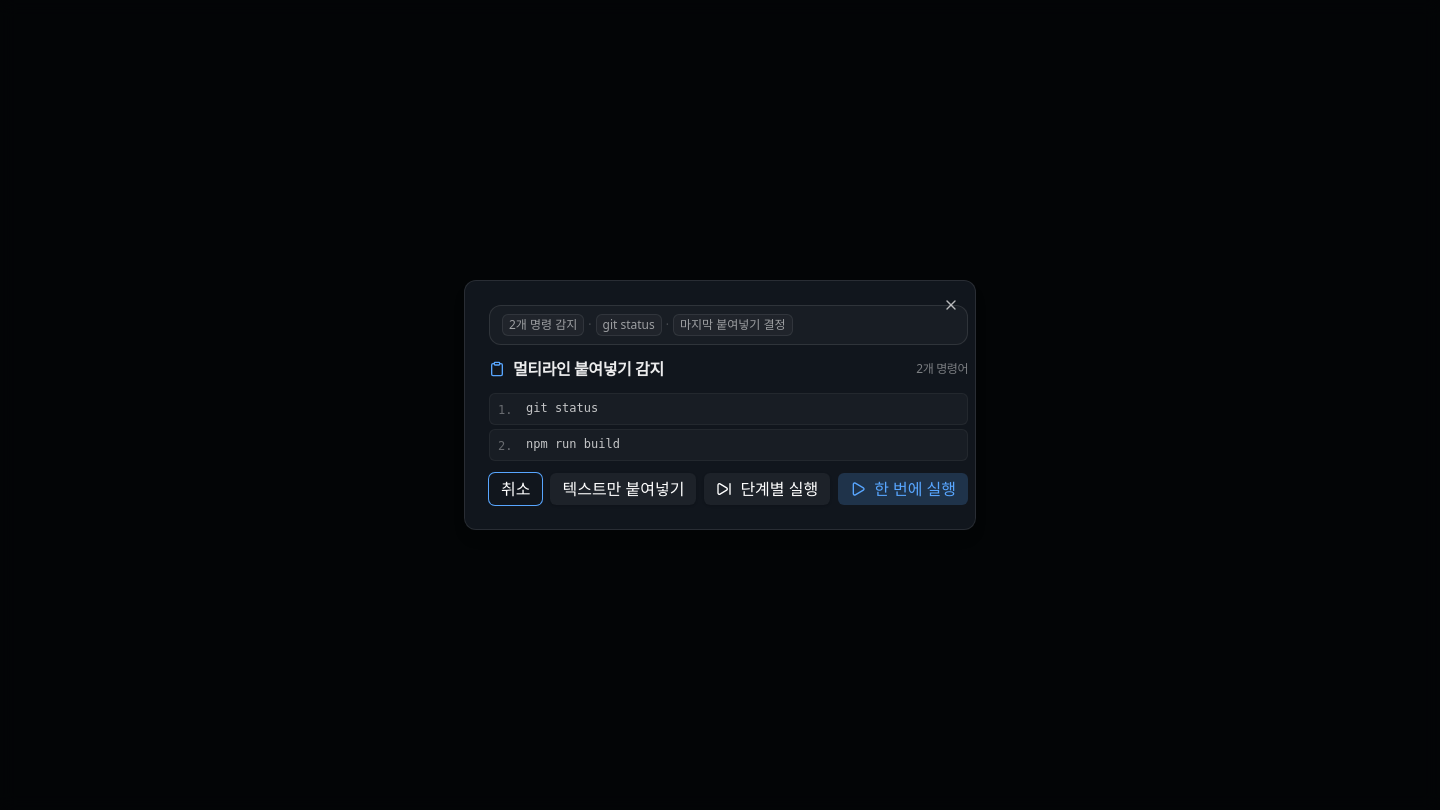
Test: SmartPasteModal › 단계별 실행 상태에서 현재 명령 흐름 안내를 보여준다
The image size is (1440, 810).
Click the button "단계별 실행".
click(767, 489)  # box [704,473,830,505]
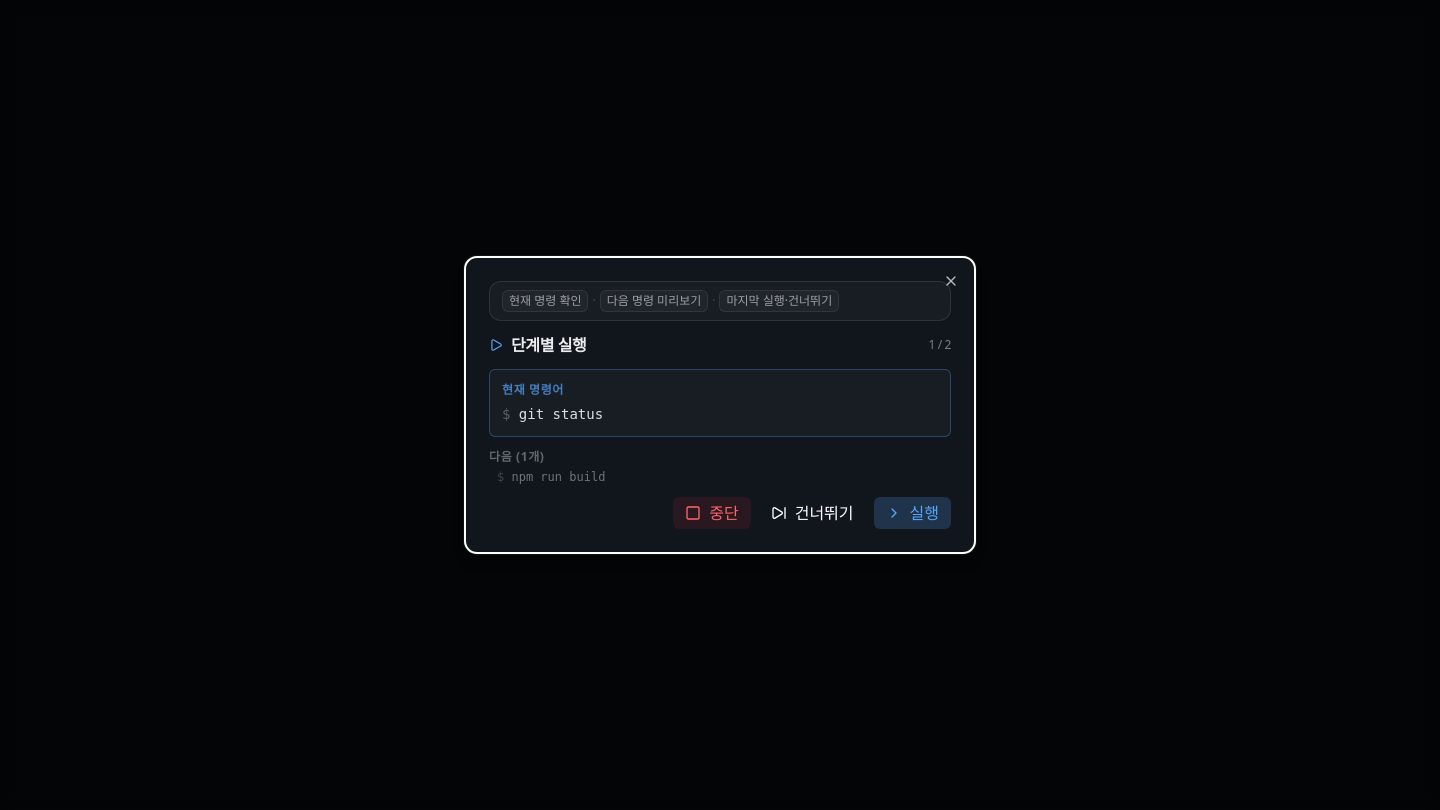
Expected: the text "현재 명령 확인" is shown, [509,293,582,309]
Expected: the text "다음 명령 미리보기" is shown, [607,293,701,309]
Expected: the text "마지막 실행·건너뛰기" is shown, [726,293,832,309]
